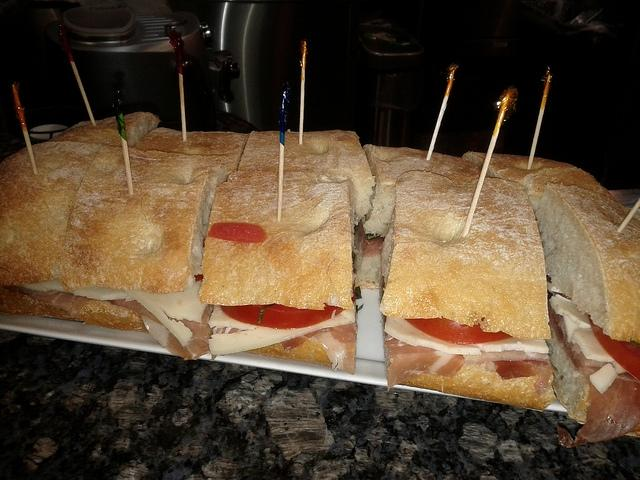tomato: (220, 304, 346, 330), (589, 319, 640, 382), (404, 316, 514, 344), (208, 222, 265, 243)
